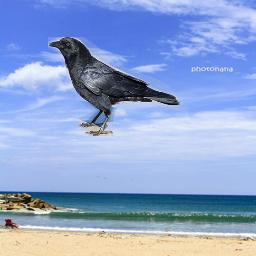Crow: (48, 37, 180, 136)
